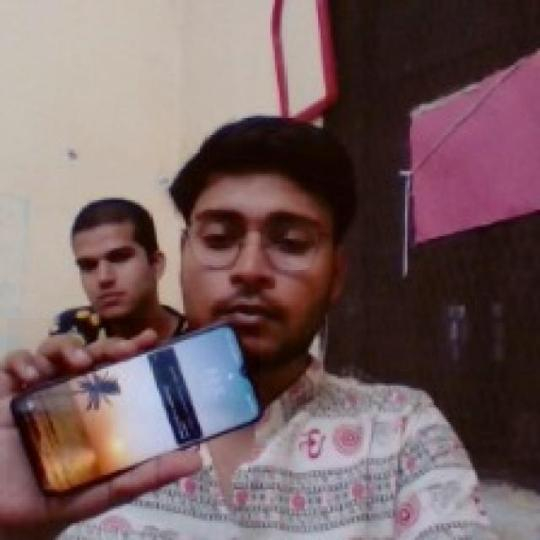phone: (10, 317, 262, 500)
